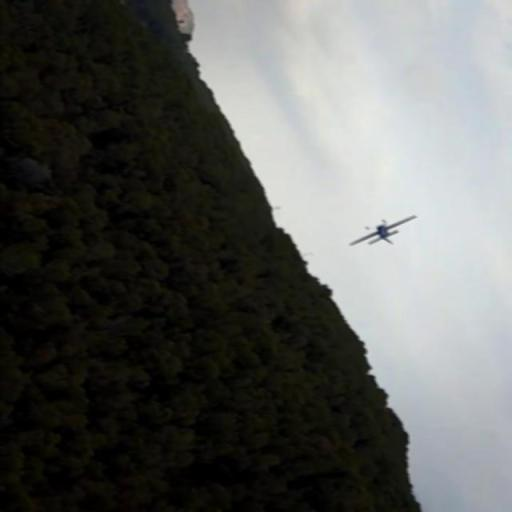uav: (346, 215, 420, 245)
